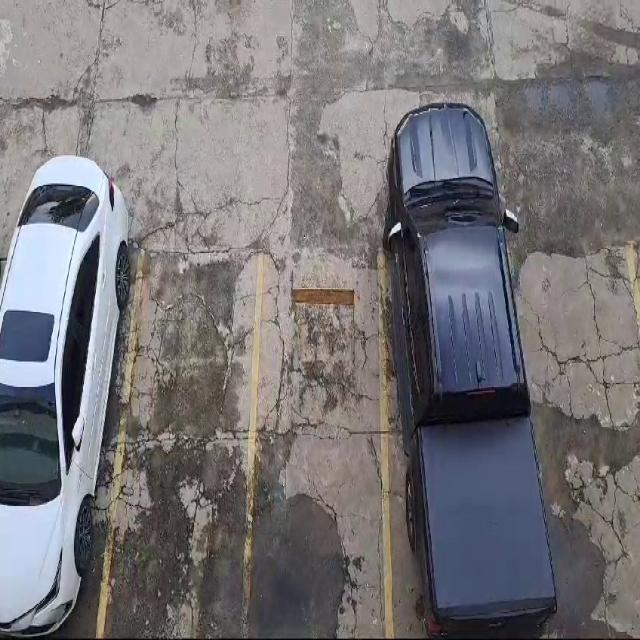empty: (99, 244, 263, 639), (244, 256, 391, 639), (507, 245, 639, 639)
notEmpty: (383, 240, 534, 639), (0, 226, 142, 639)
